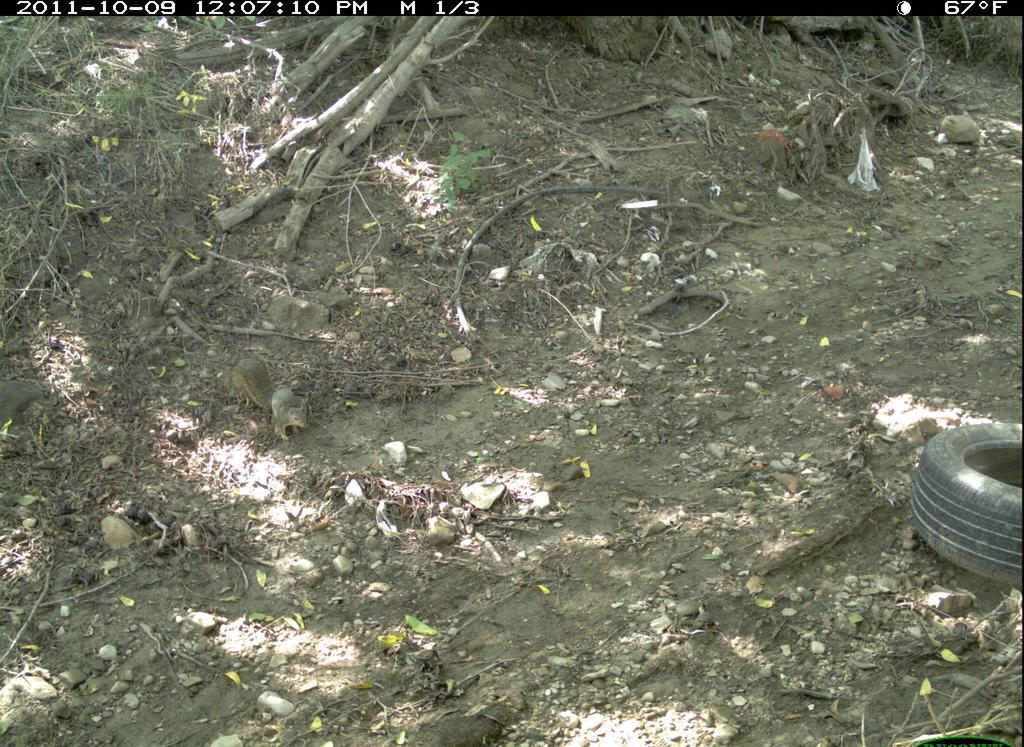squirrel: (223, 353, 317, 454)
